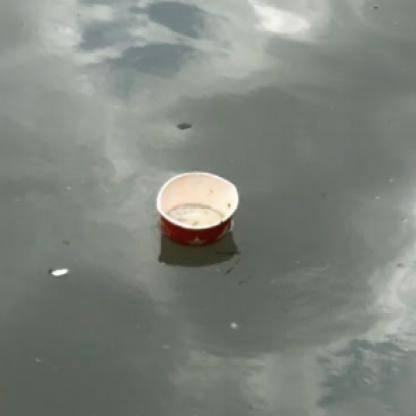Plastic: (155, 168, 240, 246)
